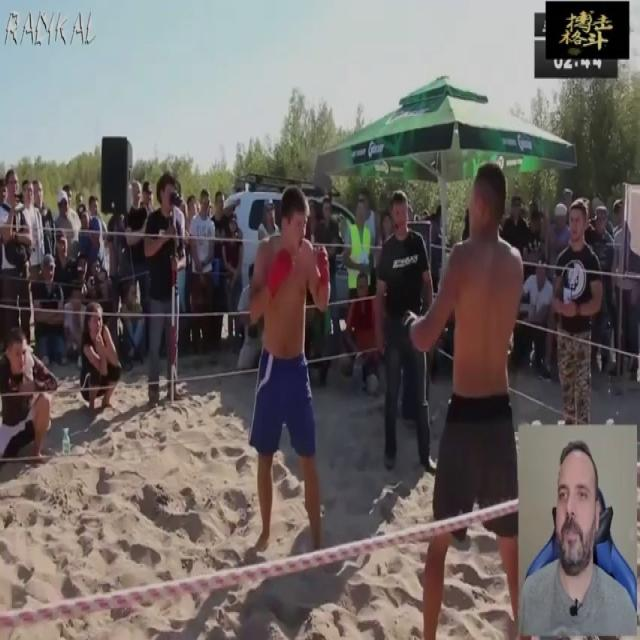fight: (234, 161, 532, 640)
non-fight: (520, 432, 638, 636), (372, 183, 440, 478), (547, 198, 603, 422), (142, 168, 188, 407), (0, 321, 61, 463), (605, 195, 639, 387), (0, 168, 34, 346), (186, 189, 221, 351), (312, 193, 345, 355), (75, 302, 123, 410), (345, 269, 386, 388), (31, 256, 68, 364), (125, 174, 149, 299), (345, 192, 374, 289), (118, 281, 148, 367), (50, 184, 81, 263), (77, 209, 109, 271)
